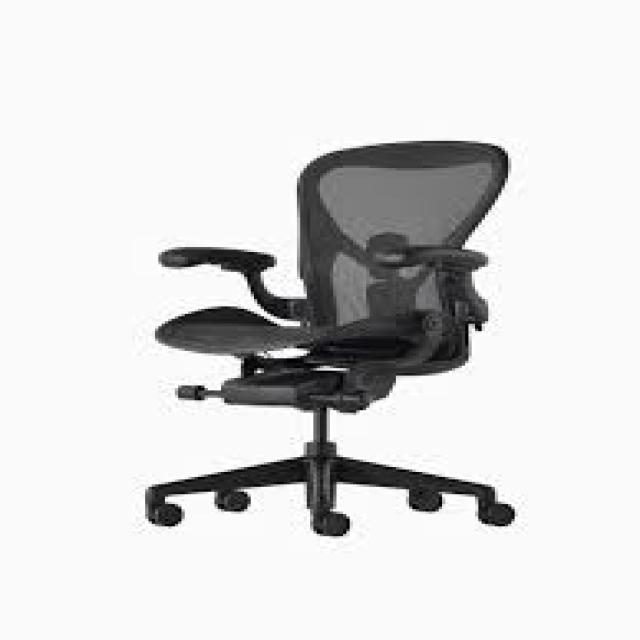chair: (65, 85, 618, 563)
